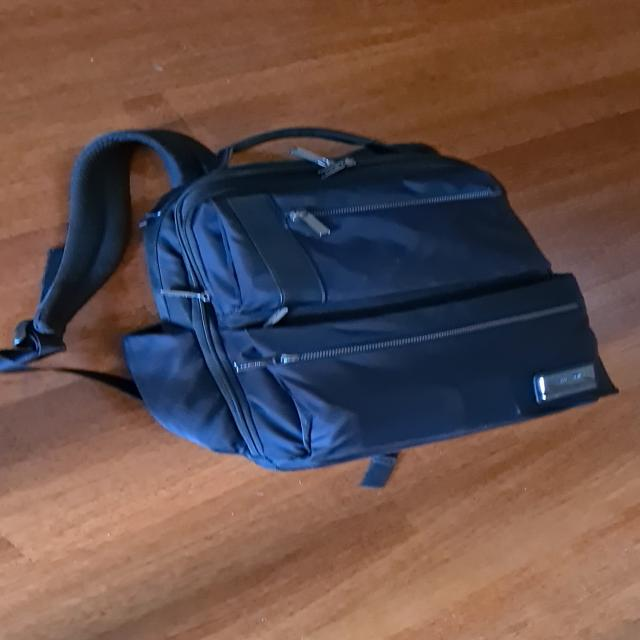backpack: (126, 116, 626, 483)
